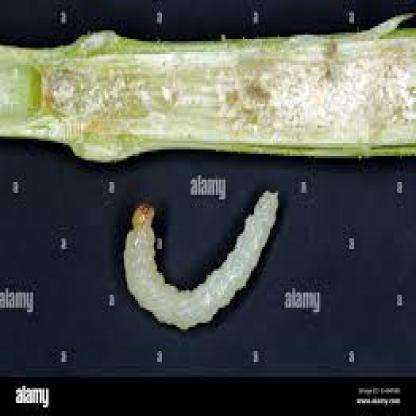sawfly: (115, 191, 284, 332)
